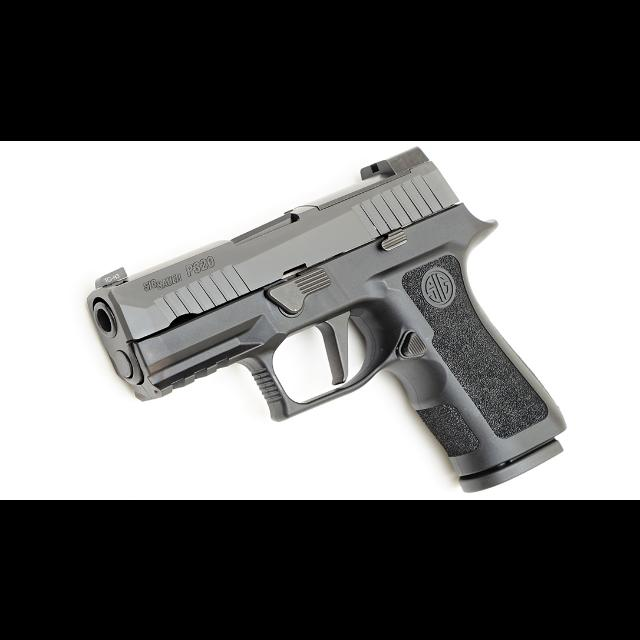handgun: (80, 142, 572, 496)
